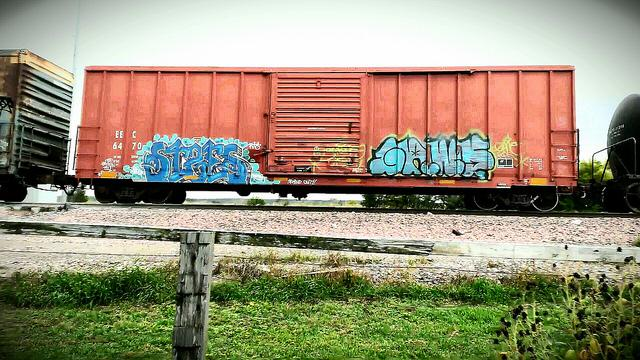Train: (77, 67, 578, 213), (0, 51, 74, 179)
